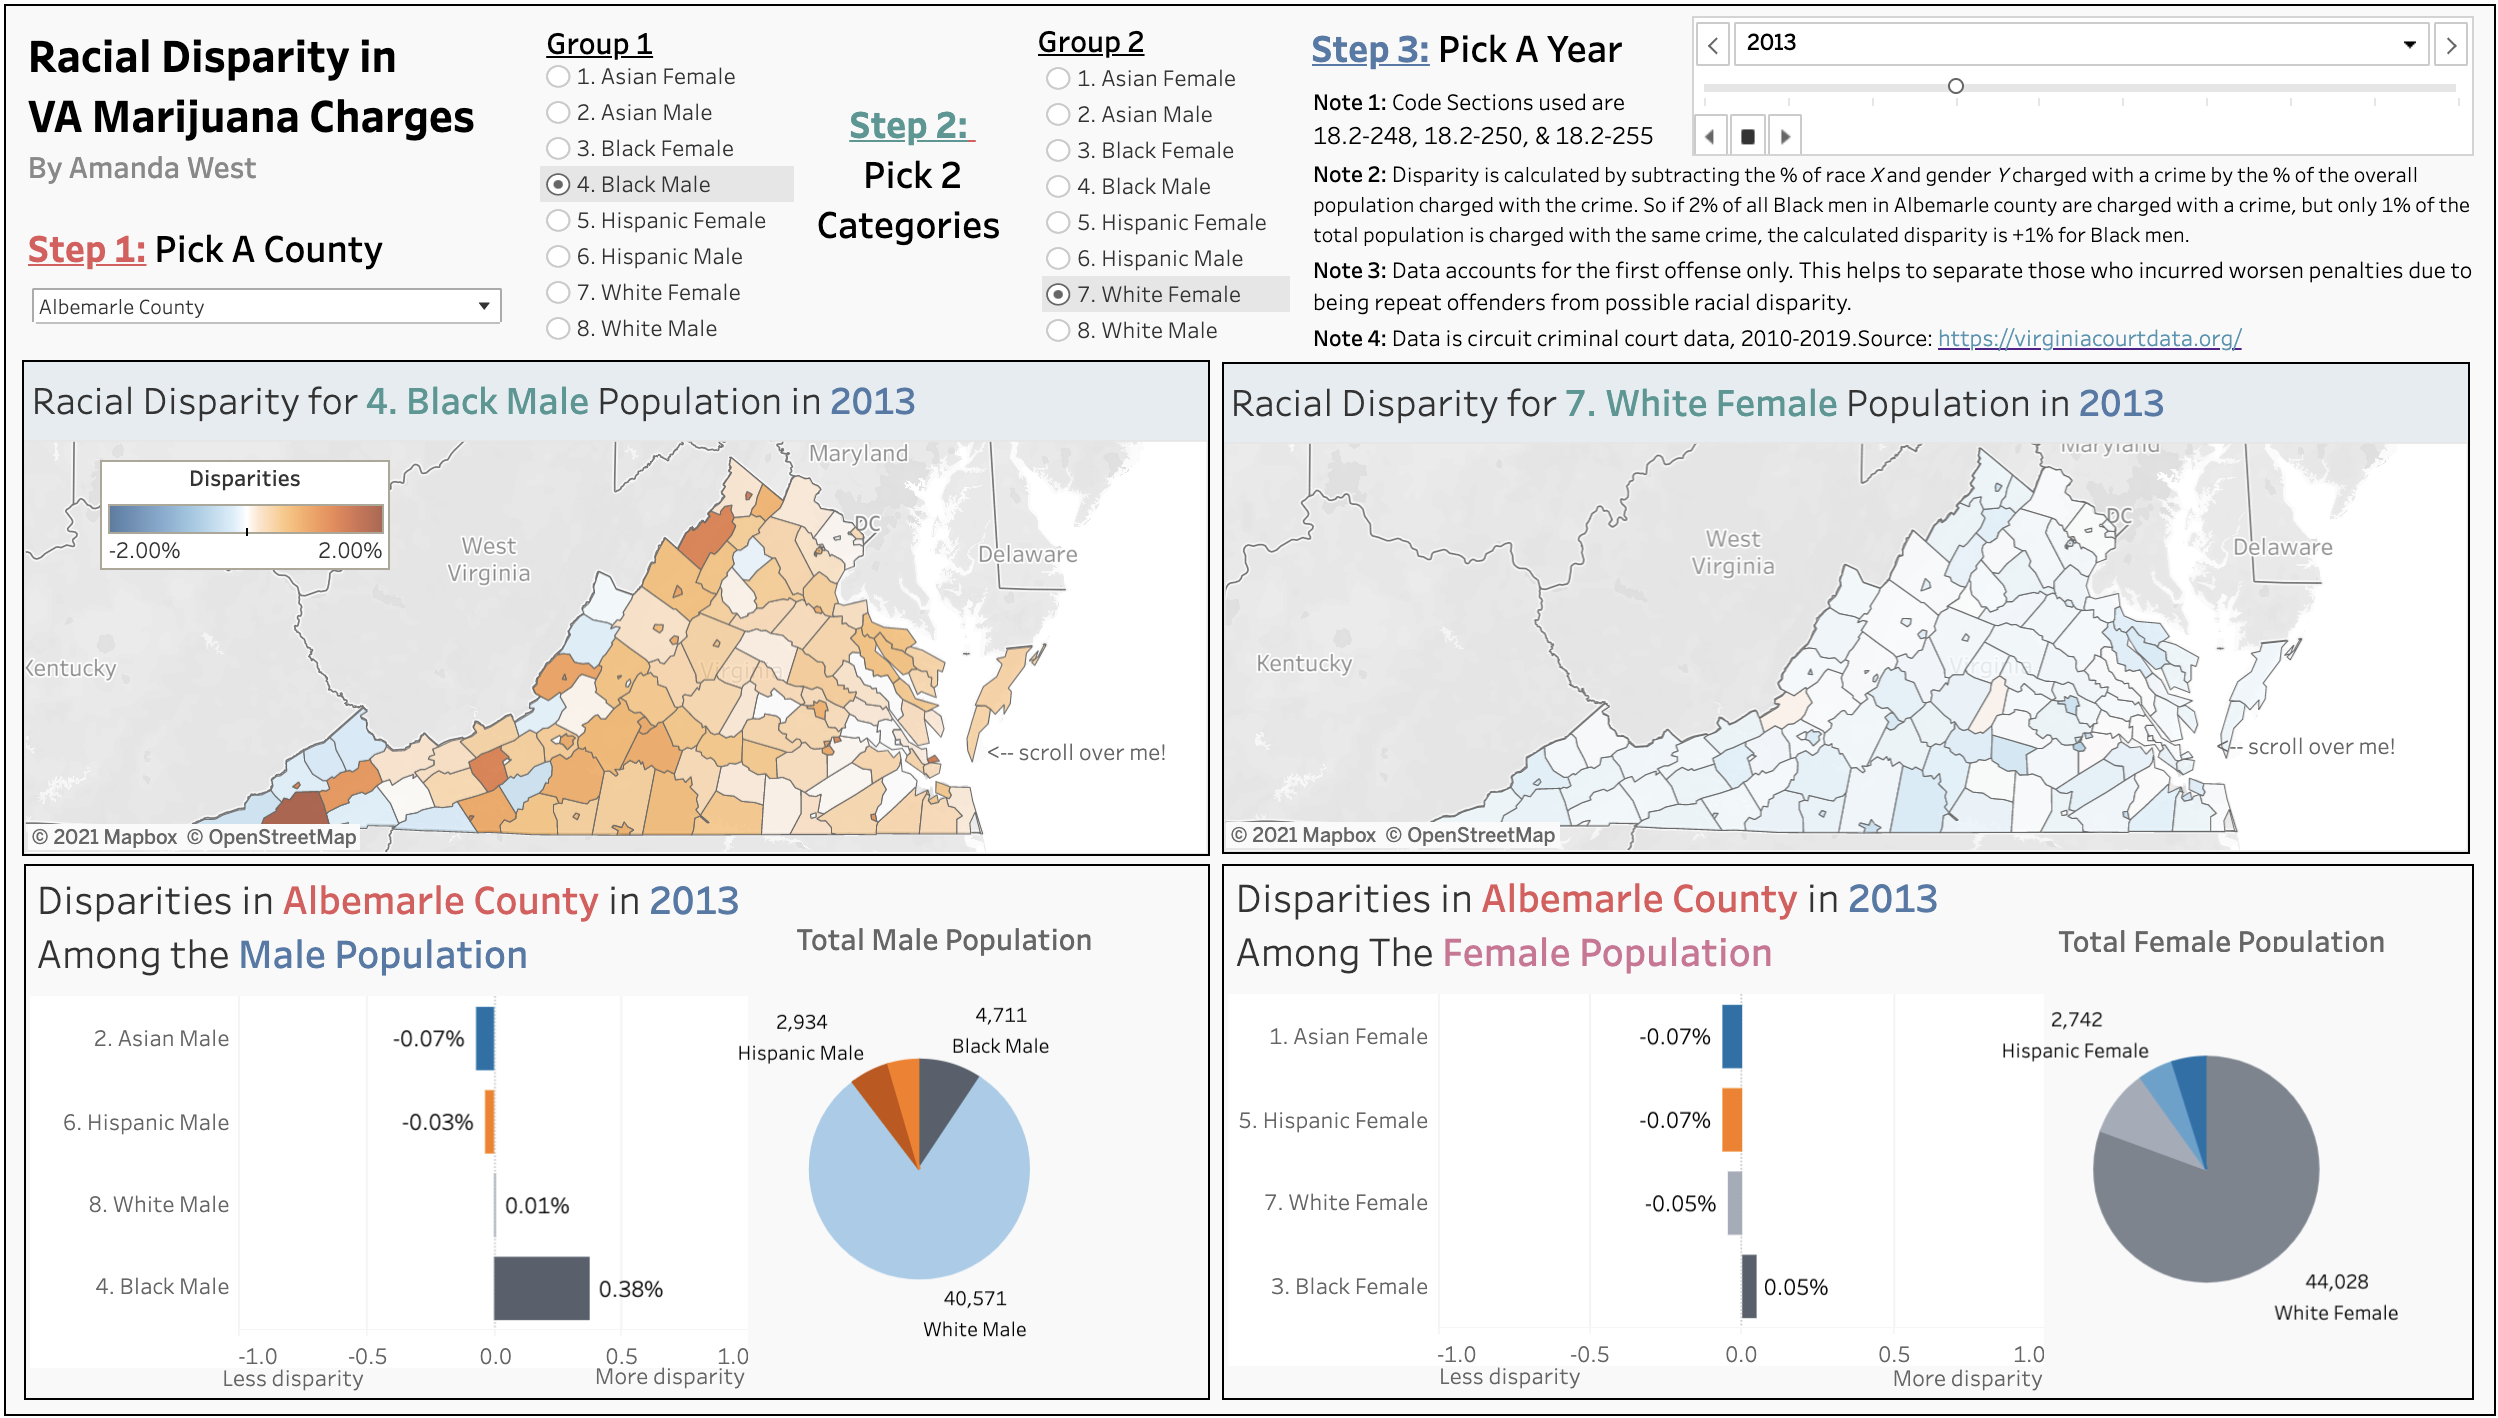

Layout of this report page (visuals, bound fields, positions):
{"tool":"tableau","page":{"name":"Final Dashboard","canvas":[1400,800],"ordinal":0},"visuals":[{"type":"worksheet","box":[0,0,1400,800]},{"type":"worksheet","param":"vert","box":[9,9,1382,782]},{"type":"worksheet","box":[9,9,1382,782]},{"type":"worksheet","box":[9,9,1382,782]},{"type":"worksheet","box":[558,9,100,37]},{"type":"worksheet","box":[284,12,100,30]},{"type":"worksheet","box":[734,13,350,37]},{"type":"worksheet","box":[21,15,383,99]},{"type":"worksheet","title":"Total Male Pop","mark":"Pie","box":[946,21,435,61]},{"type":"worksheet","box":[735,37,229,63]},{"type":"worksheet","title":"Geographic","mark":"Automatic","param":"[federated.0fdf2au0wxb9or12j7r2q0id6mv7].[:Measure Names]","box":[283,38,166,766]},{"type":"worksheet","box":[423,50,155,103]},{"type":"worksheet","box":[735,85,649,62]},{"type":"worksheet","box":[21,126,237,33]},{"type":"worksheet","box":[735,137,650,47]},{"type":"worksheet","title":"Total Male Pop","mark":"Pie","param":"[federated.0fdf2au0wxb9or12j7r2q0id6mv7].[none:County (census_data_revised.csv):","box":[22,165,253,34]},{"type":"worksheet","box":[735,177,582,33]},{"type":"worksheet","box":[11,197,1374,602]},{"type":"worksheet","title":"Geographic","mark":"Automatic","box":[18,206,660,275]},{"type":"worksheet","title":"Geographic (2)","mark":"Automatic","box":[684,207,694,273]},{"type":"worksheet","title":"Geographic","mark":"Automatic","param":"[federated.0fdf2au0wxb9or12j7r2q0id6mv7].[Multiple Values]","box":[64,274,161,61]},{"type":"worksheet","box":[1237,407,123,26]},{"type":"worksheet","box":[554,408,105,30]},{"type":"worksheet","title":"Female - Singular","mark":"Automatic","box":[688,483,627,292]},{"type":"worksheet","title":"Male - Singular","mark":"Automatic","box":[22,484,626,298]},{"type":"worksheet","box":[19,485,659,298]},{"type":"worksheet","box":[684,485,696,298]},{"type":"worksheet","title":"Total Female Pop","mark":"Pie","box":[1106,511,271,289]},{"type":"worksheet","box":[448,513,213,27]},{"type":"worksheet","box":[1149,521,219,14]},{"type":"worksheet","box":[336,755,117,30]},{"type":"worksheet","box":[805,755,116,30]},{"type":"worksheet","box":[129,756,116,30]},{"type":"worksheet","box":[1057,756,117,30]}]}

Visuals, with their boxes in screenshot pixels (x1, y1, x2, y2), scaled from the page's 1400x800 canvas onto the 2498x1418 screenshot:
worksheet: left=0, top=0, right=2497, bottom=1417
worksheet: left=16, top=16, right=2482, bottom=1402
worksheet: left=16, top=16, right=2482, bottom=1402
worksheet: left=16, top=16, right=2482, bottom=1402
worksheet: left=996, top=16, right=1174, bottom=82
worksheet: left=507, top=21, right=685, bottom=74
worksheet: left=1310, top=23, right=1934, bottom=89
worksheet: left=37, top=27, right=721, bottom=202
"Total Male Pop" worksheet (Pie marks): left=1688, top=37, right=2464, bottom=145
worksheet: left=1311, top=66, right=1720, bottom=177
"Geographic" worksheet: left=505, top=67, right=801, bottom=1417
worksheet: left=755, top=89, right=1031, bottom=271
worksheet: left=1311, top=151, right=2469, bottom=261
worksheet: left=37, top=223, right=460, bottom=282
worksheet: left=1311, top=243, right=2471, bottom=326
"Total Male Pop" worksheet (Pie marks): left=39, top=292, right=491, bottom=353
worksheet: left=1311, top=314, right=2350, bottom=372
worksheet: left=20, top=349, right=2471, bottom=1416
"Geographic" worksheet: left=32, top=365, right=1210, bottom=853
"Geographic (2)" worksheet: left=1220, top=367, right=2459, bottom=851
"Geographic" worksheet: left=114, top=486, right=401, bottom=594
worksheet: left=2207, top=721, right=2427, bottom=767
worksheet: left=988, top=723, right=1176, bottom=776
"Female - Singular" worksheet: left=1228, top=856, right=2346, bottom=1374
"Male - Singular" worksheet: left=39, top=858, right=1156, bottom=1386
worksheet: left=34, top=860, right=1210, bottom=1388
worksheet: left=1220, top=860, right=2462, bottom=1388
"Total Female Pop" worksheet (Pie marks): left=1973, top=906, right=2457, bottom=1417
worksheet: left=799, top=909, right=1179, bottom=957
worksheet: left=2050, top=923, right=2441, bottom=948
worksheet: left=600, top=1338, right=808, bottom=1391
worksheet: left=1436, top=1338, right=1643, bottom=1391
worksheet: left=230, top=1340, right=437, bottom=1393
worksheet: left=1886, top=1340, right=2095, bottom=1393
